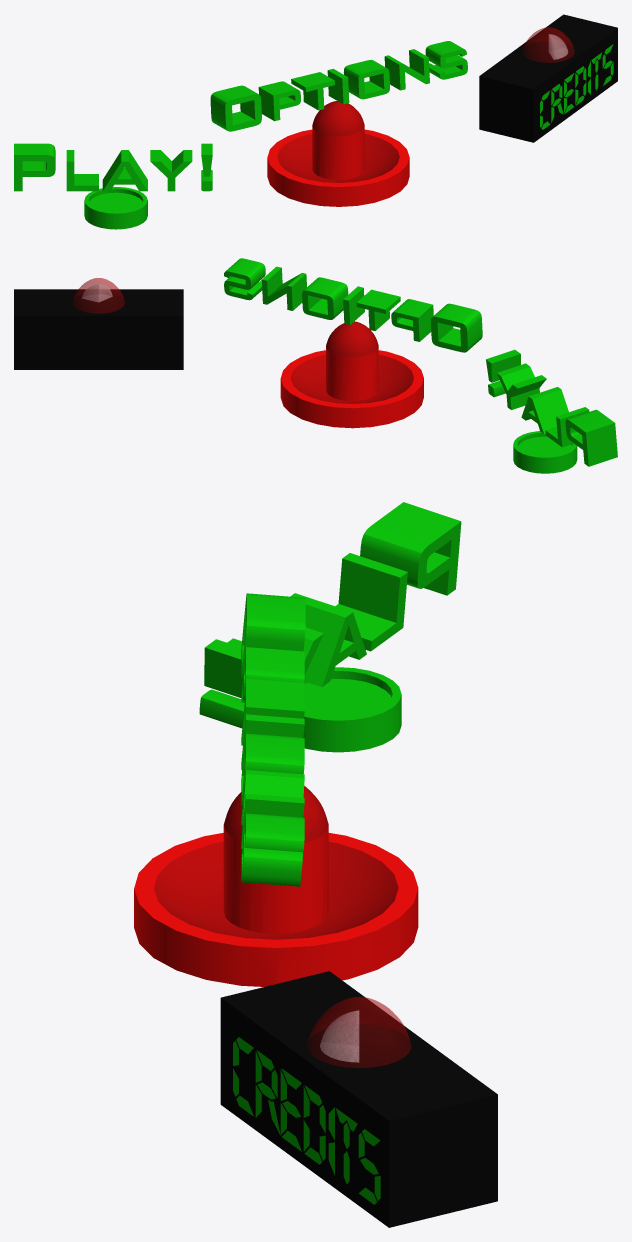
The model's file is MainMenu_Items.FBX.
3 views of the same model, one above another, from view 1: azimuth 30°, elevation 25°; view 2: azimuth 150°, elevation 25°; view 3: azimuth 270°, elevation 25° (orthographic). The views are drawn at different scales.
Parts seen in each view (by area): view 1: Layer0_001; view 2: Layer0_001; view 3: Layer0_001.
Boxes of the visible parts, x1,y1,x2,y2 form: Layer0_001: [14, 14, 617, 229]; Layer0_001: [14, 258, 617, 473]; Layer0_001: [134, 502, 497, 1227].
Bounding box in the file's own units: 1009 × 177 × 264.
6 materials, 1 textured.
